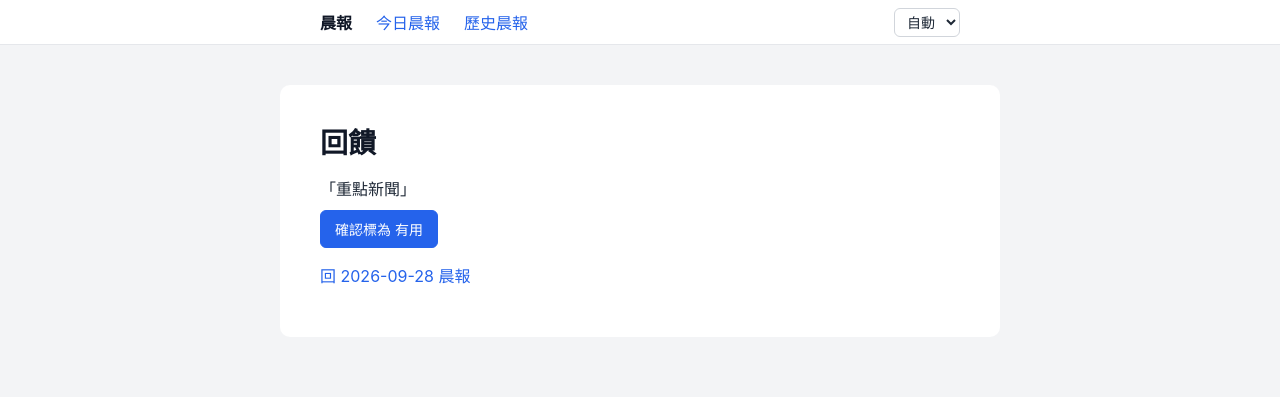
/feedback/<uid>（email 連結的確認頁） › 寫入失敗：顯示錯誤、按鈕還在可以重試，不會假裝成功
Click the button "確認標為 有用" at (379, 229), box [320,210,438,248]
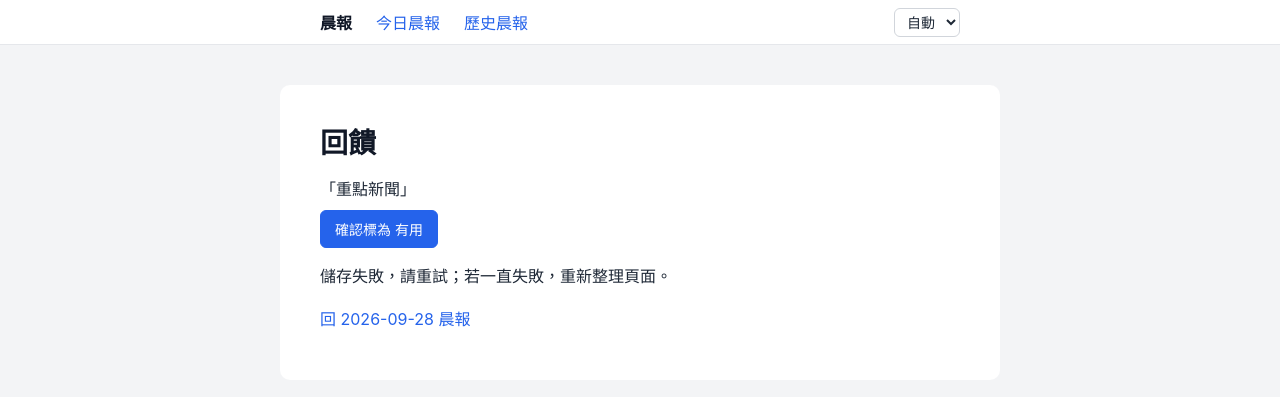
Result: the text "儲存失敗，請重試；若一直失敗，重新整理頁面。" is shown at [320,266,672,286]
